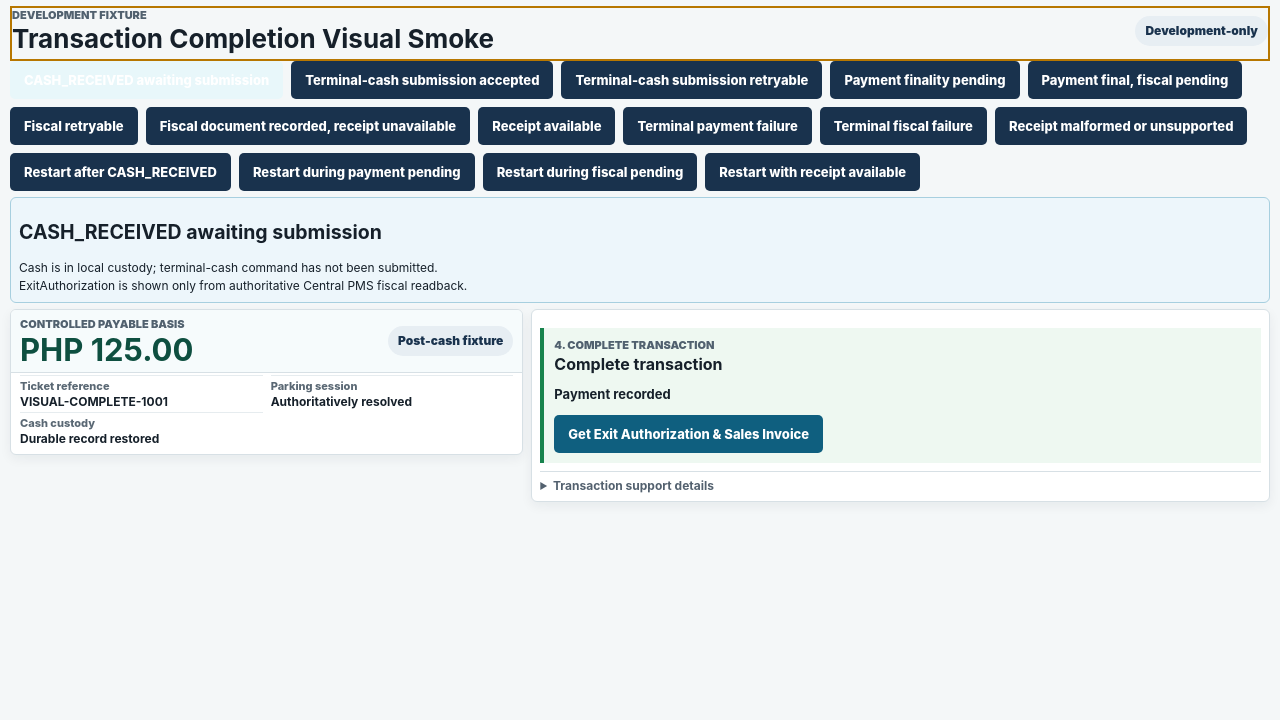
TransactionCompletionVisualSmokeShell › restores restart-during-payment-pending as accepted pending readback without retry classification
What coordinates should you click on to do the following:
click the button "Restart during payment pending"
I would click on:
 (357, 172)
Its box is top-left (239, 153), bottom-right (475, 191).
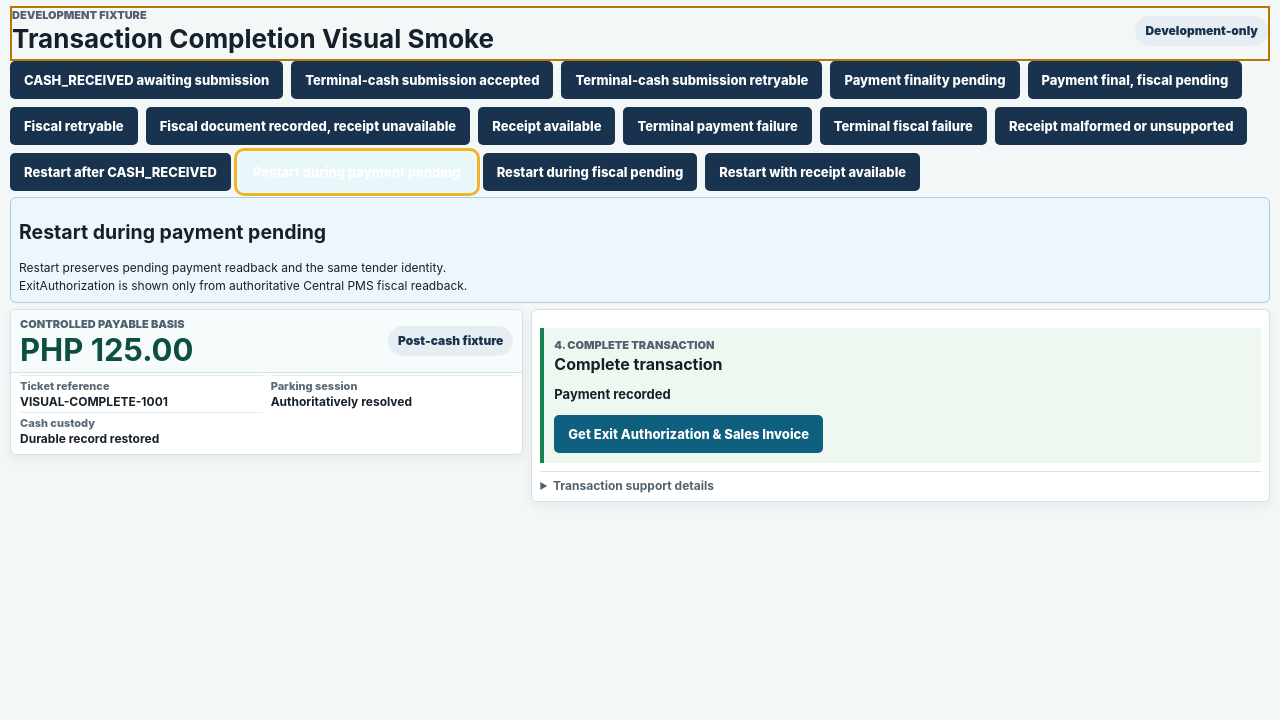
Check: the text "Restart preserves pending payment readback and the same tender identity" is shown, box top-left (19, 260), bottom-right (446, 275)
